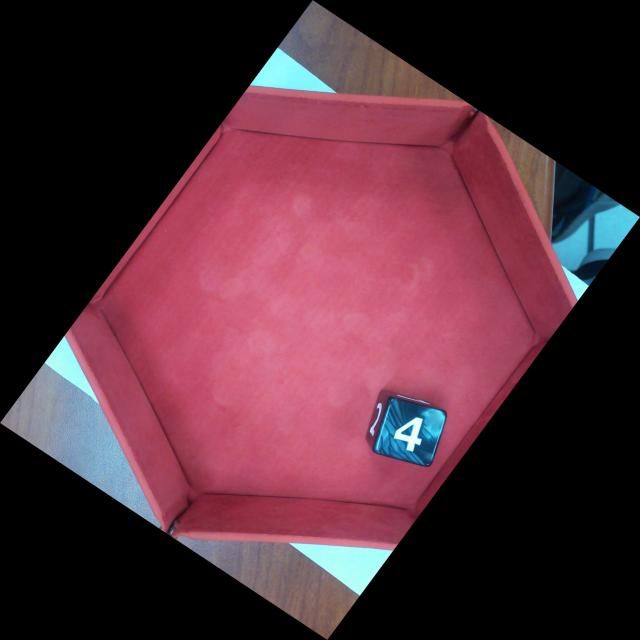dice: (373, 398, 447, 470)
